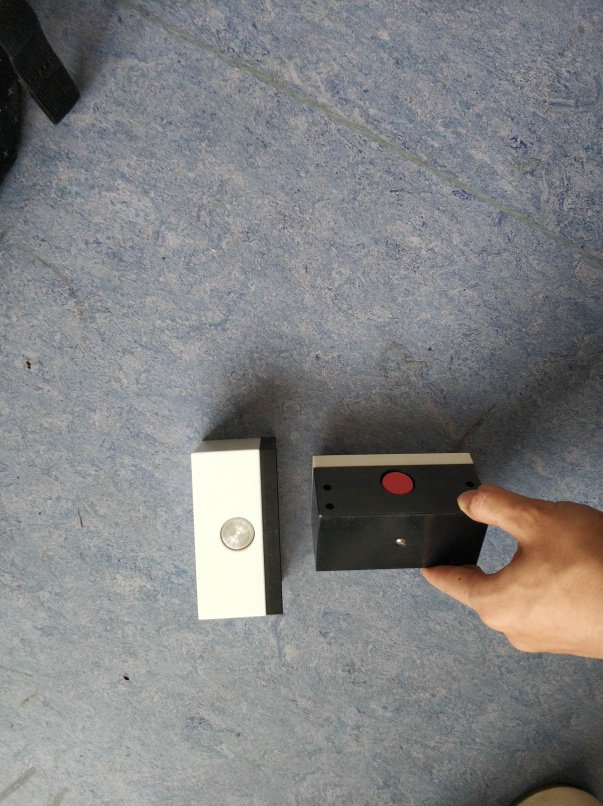black+white+silver: (187, 433, 286, 624)
white+black+red: (307, 448, 491, 574)
